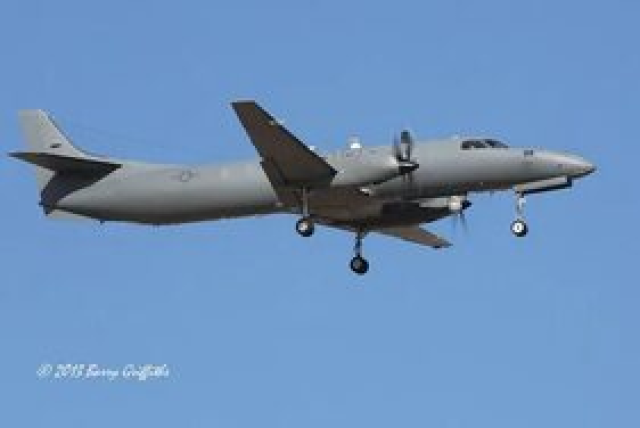military drone: (5, 51, 597, 270)
